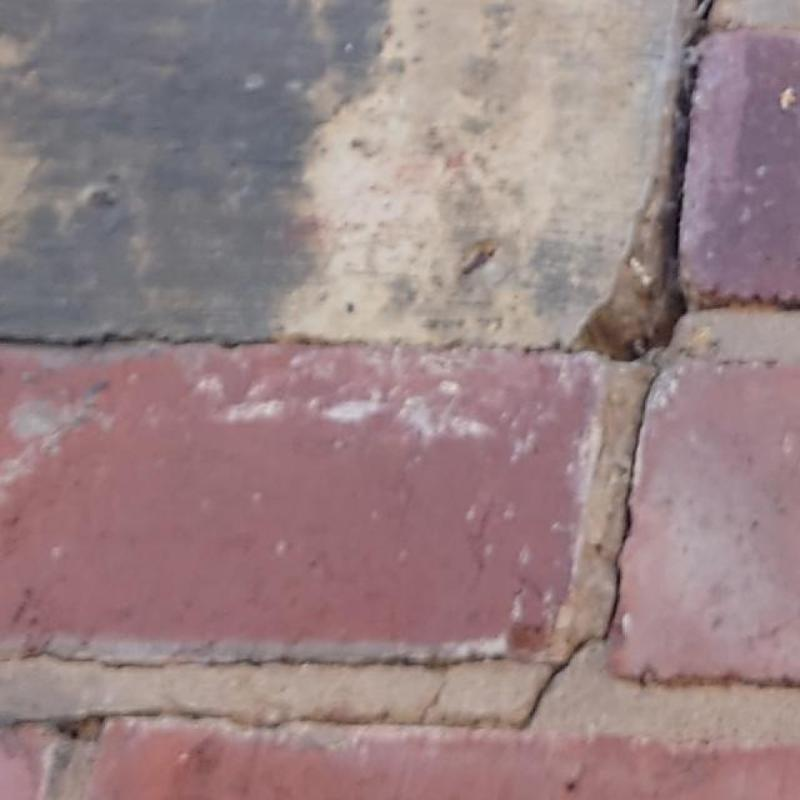pothole: (571, 0, 717, 359), (520, 371, 658, 723), (0, 650, 534, 740), (0, 331, 365, 349), (470, 341, 571, 356), (686, 298, 799, 310)
